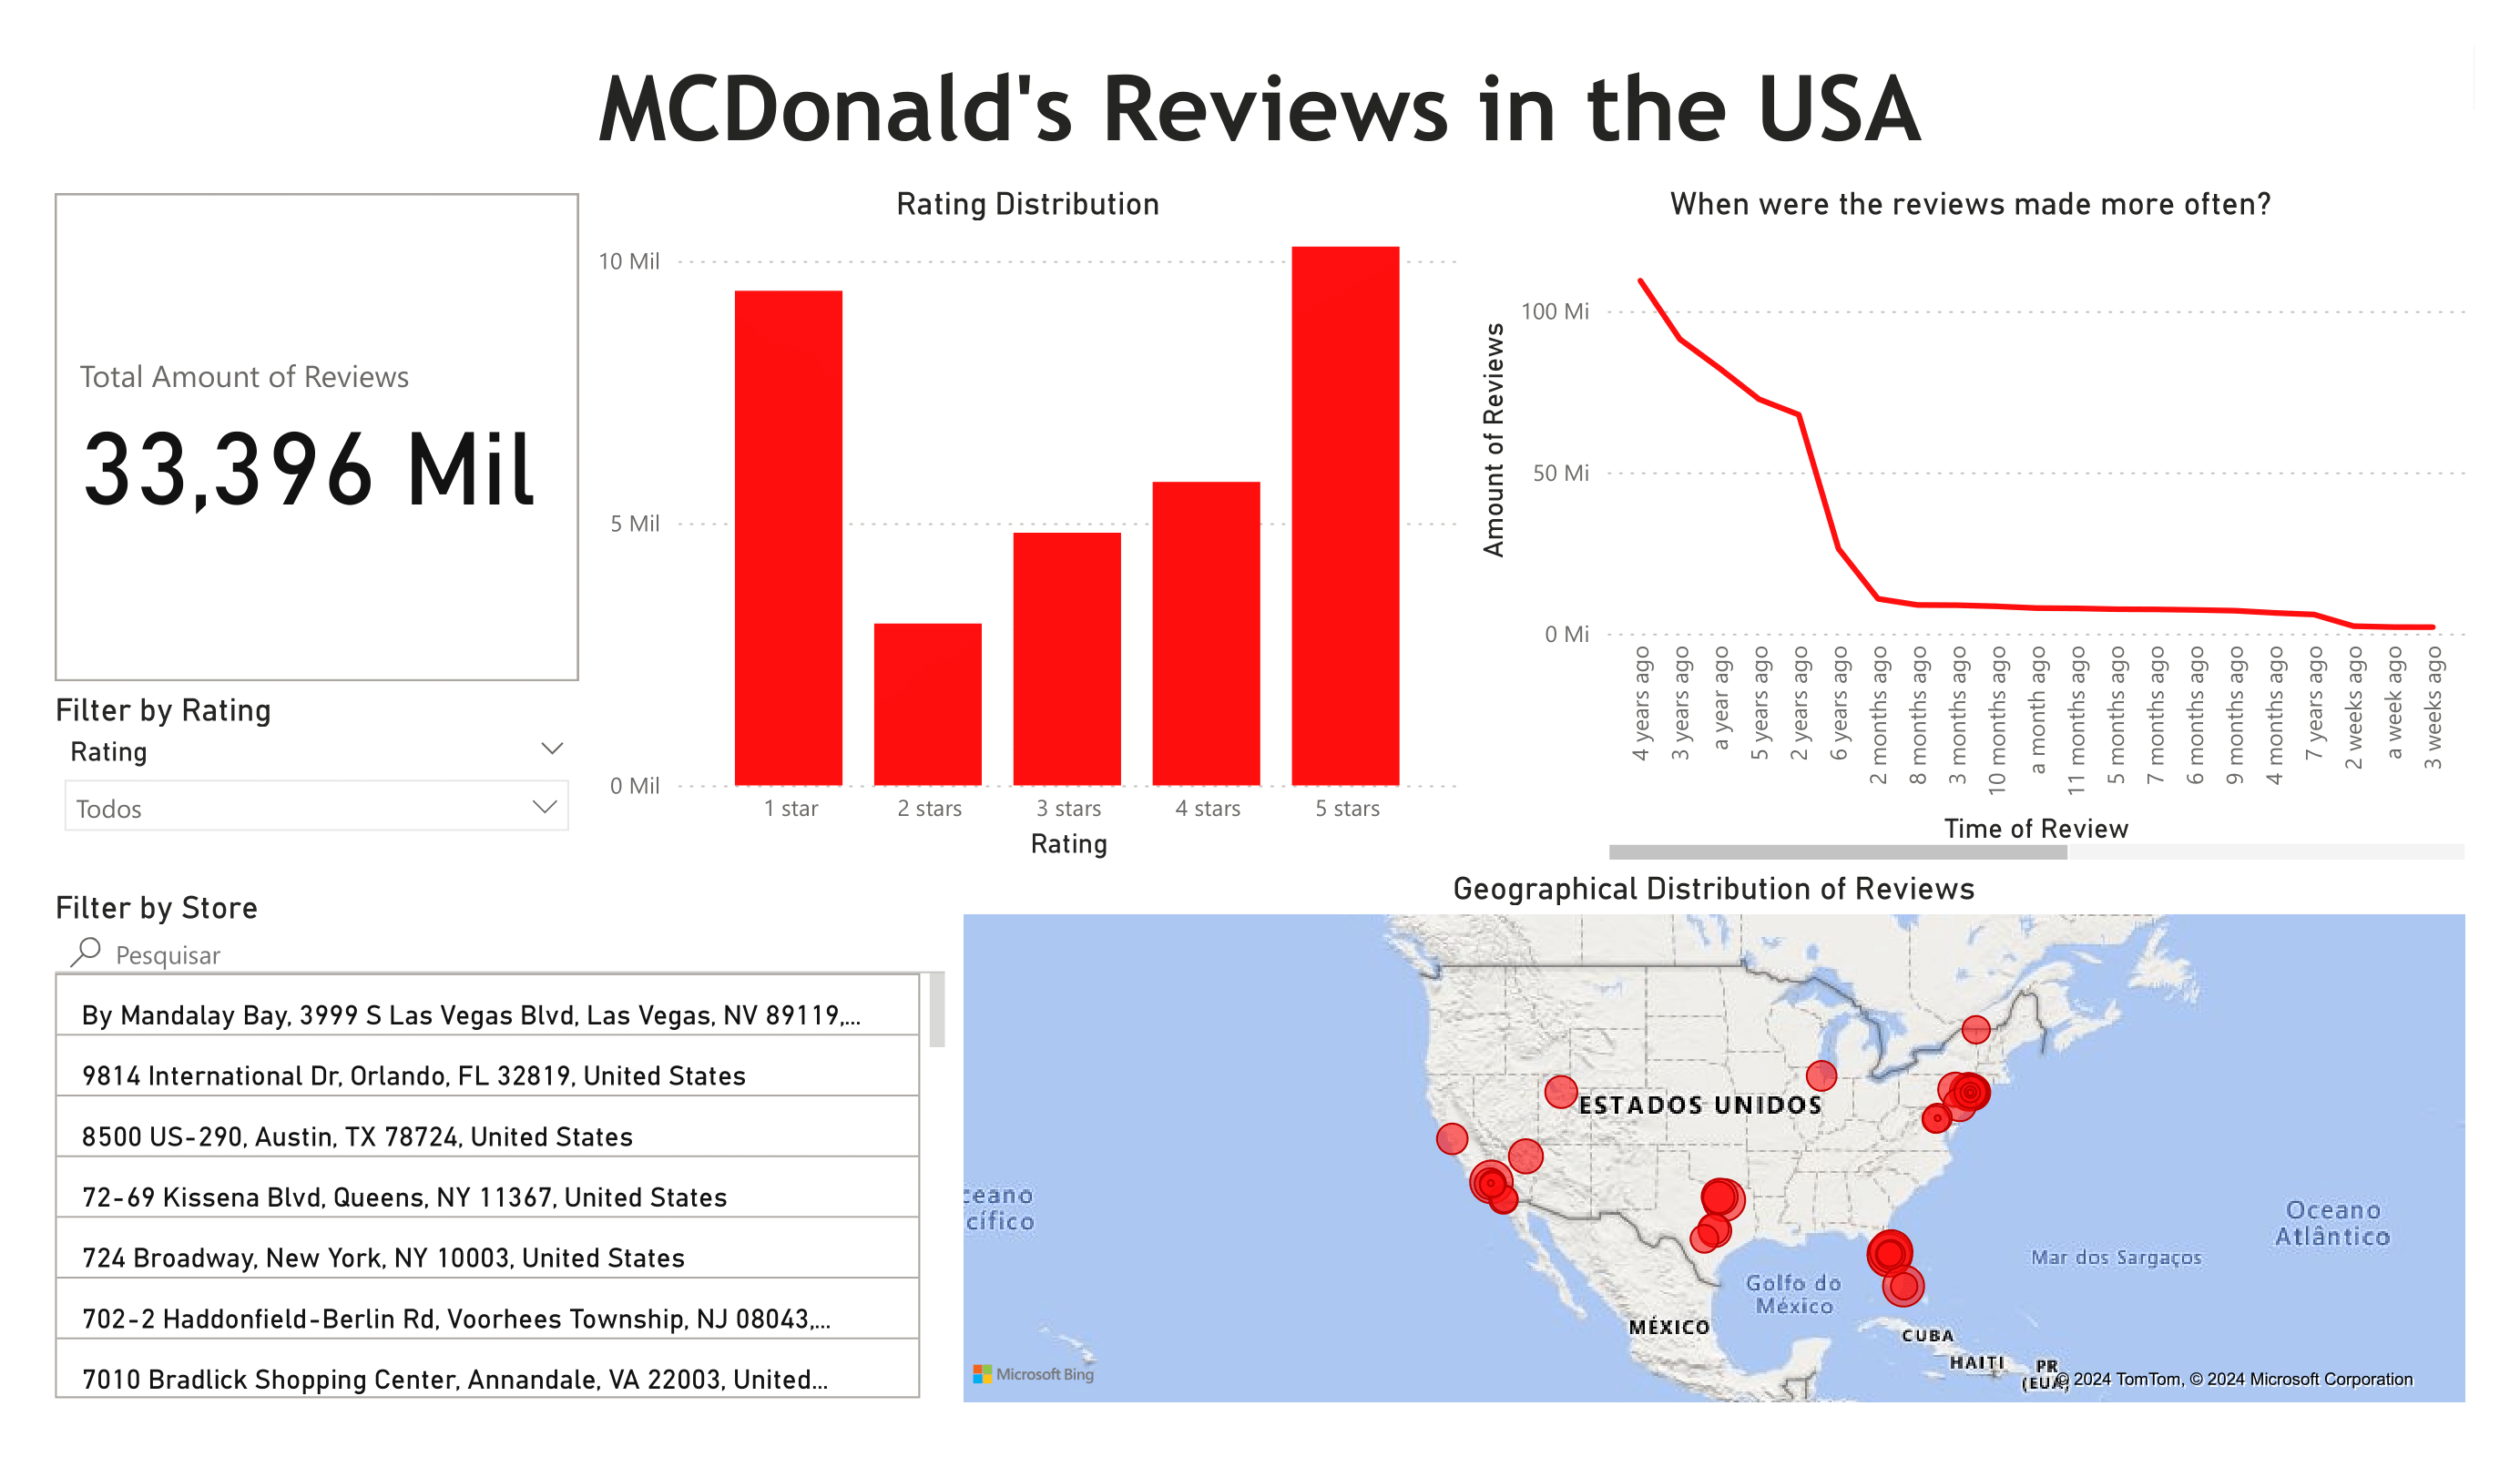

Layout of this report page (visuals, bound fields, positions):
{"tool":"powerbi","page":{"name":"Página 1","canvas":[1280,720],"ordinal":0},"visuals":[{"type":"textbox","box":[0,0,1280.3,72.7],"z":0},{"type":"cardVisual","fields":{"Data":["Count(McDonald_s_Reviews.reviewer_id)"]},"box":[0,72.9,285.8,267.2],"z":1000},{"type":"columnChart","title":"Rating Distribution","fields":{"Category":["McDonald_s_Reviews.rating"],"Y":["CountNonNull(McDonald_s_Reviews.rating)"]},"box":[285.8,72.9,464.4,361.5],"z":2000},{"type":"map","title":"Geographical Distribution of Reviews","fields":{"Y":["McDonald_s_Reviews.latitude "],"X":["McDonald_s_Reviews.longitude"],"Size":["CountNonNull(McDonald_s_Reviews.rating)"]},"box":[478.7,434.4,801.6,285.8],"z":3000},{"type":"slicer","title":"Filter by Rating","fields":{"Values":["McDonald_s_Reviews.rating"]},"box":[0,340.1,285.8,104.3],"z":4000},{"type":"advancedSlicerVisual","title":"Filter by Store","fields":{"Values":["McDonald_s_Reviews.store_address"]},"box":[0,444.4,478.7,275.8],"z":5000},{"type":"lineChart","title":"When were the reviews made more often?","fields":{"Category":["McDonald_s_Reviews.review_time"],"Y":["Sum(McDonald_s_Reviews.reviewer_id)"]},"box":[750.2,72.9,530.1,361.5],"z":6000}]}

Visuals, with their boxes on the page's 1280x720 design canvas (x1, y1, x2, y2). These are canvas units, not pixel positions in the 2520x1457 screenshot, which may show the page scaled, cropped or inside an application window:
textbox: (x1=0, y1=0, x2=1280, y2=73)
cardVisual - Count(McDonald_s_Reviews.reviewer_id): (x1=0, y1=73, x2=286, y2=340)
"Rating Distribution" columnChart: (x1=286, y1=73, x2=750, y2=434)
"Geographical Distribution of Reviews" map: (x1=479, y1=434, x2=1280, y2=720)
"Filter by Rating" slicer: (x1=0, y1=340, x2=286, y2=444)
"Filter by Store" advancedSlicerVisual: (x1=0, y1=444, x2=479, y2=720)
"When were the reviews made more often?" lineChart: (x1=750, y1=73, x2=1280, y2=434)
